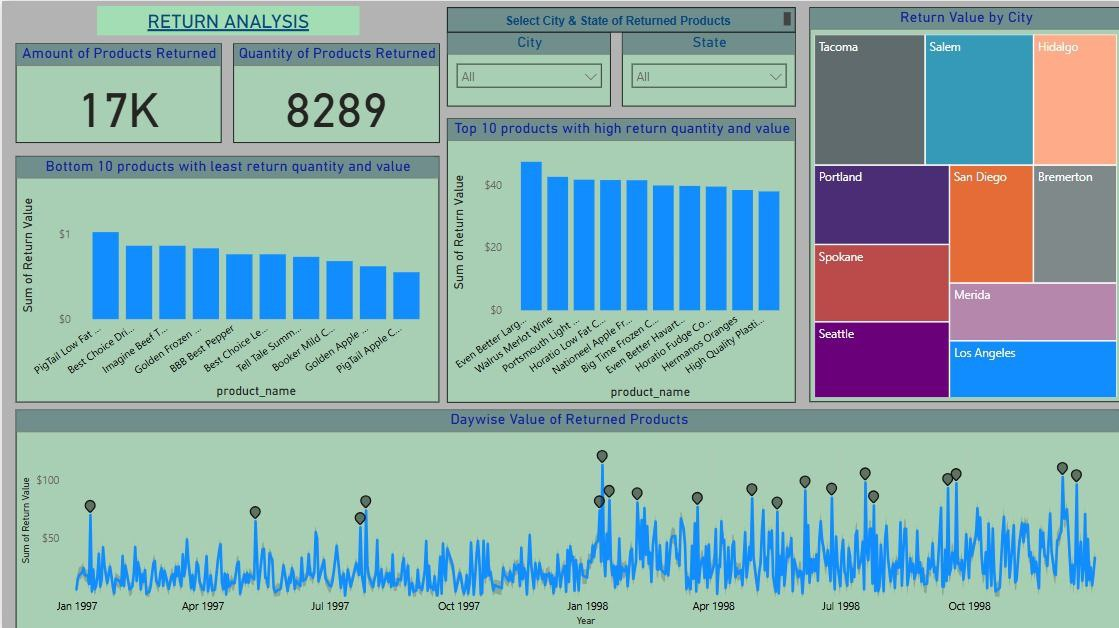

The dashboard page shown, as its layout file describes it:
{"tool":"powerbi","page":{"name":"Return Analysis","canvas":[1280,720],"ordinal":1},"visuals":[{"type":"clusteredColumnChart","title":"Top 10 products with high return quantity and value","fields":{"Category":["products.product_name"],"Y":["Sum(Returns.Return Value)"]},"box":[508.8,133.8,398.8,325],"z":0},{"type":"clusteredColumnChart","title":"Bottom 10 products with least return quantity and value","fields":{"Category":["products.product_name"],"Y":["Sum(Returns.Return Value)"]},"box":[16.2,177.5,483.8,281.2],"z":1000},{"type":"treemap","title":"Return Value by City","fields":{"Group":["Market_Stores.store_city"],"Values":["Sum(Returns.Return Value)"]},"box":[922.5,7.5,357.5,451.2],"z":2000},{"type":"card","title":"Quantity of Products Returned","fields":{"Values":["Returns.Total Return Quantity"]},"box":[263.8,48.8,236.2,113.8],"z":3000},{"type":"card","title":"Amount of Products Returned","fields":{"Values":["Returns.Total Return Value"]},"box":[16.2,48.8,235,113.8],"z":4000},{"type":"lineChart","title":"Daywise Value of Returned Products","fields":{"Y":["Sum(Returns.Return Value)"],"Category":["Returns.return_date.Variation.Date Hierarchy.Year","Returns.return_date.Variation.Date Hierarchy.Quarter","Returns.return_date.Variation.Date Hierarchy.Month","Returns.return_date.Variation.Date Hierarchy.Day"]},"box":[16.2,467.5,1263.8,252.5],"z":5000},{"type":"slicer","title":"City","fields":{"Values":["Market_Stores.store_city"]},"box":[508.8,36.2,187.5,85],"z":6000},{"type":"slicer","title":"State","fields":{"Values":["Market_Stores.store_state"]},"box":[708.8,36.2,198.8,85],"z":7000},{"type":"textbox","box":[508.8,7.5,398.8,28.8],"z":8000},{"type":"textbox","box":[108.8,5,300,33.8],"z":9000}]}

Visuals, with their boxes in screenshot pixels (x1, y1, x2, y2), scaled from the page's 1280x720 canvas onto the 1119x628 screenshot:
"Top 10 products with high return quantity and value" clusteredColumnChart: 445 117 793 400
"Bottom 10 products with least return quantity and value" clusteredColumnChart: 14 155 437 400
"Return Value by City" treemap: 806 7 1118 400
"Quantity of Products Returned" card: 231 43 437 142
"Amount of Products Returned" card: 14 43 220 142
"Daywise Value of Returned Products" lineChart: 14 408 1118 627
"City" slicer: 445 32 609 106
"State" slicer: 620 32 793 106
textbox: 445 7 793 32
textbox: 95 4 357 34
